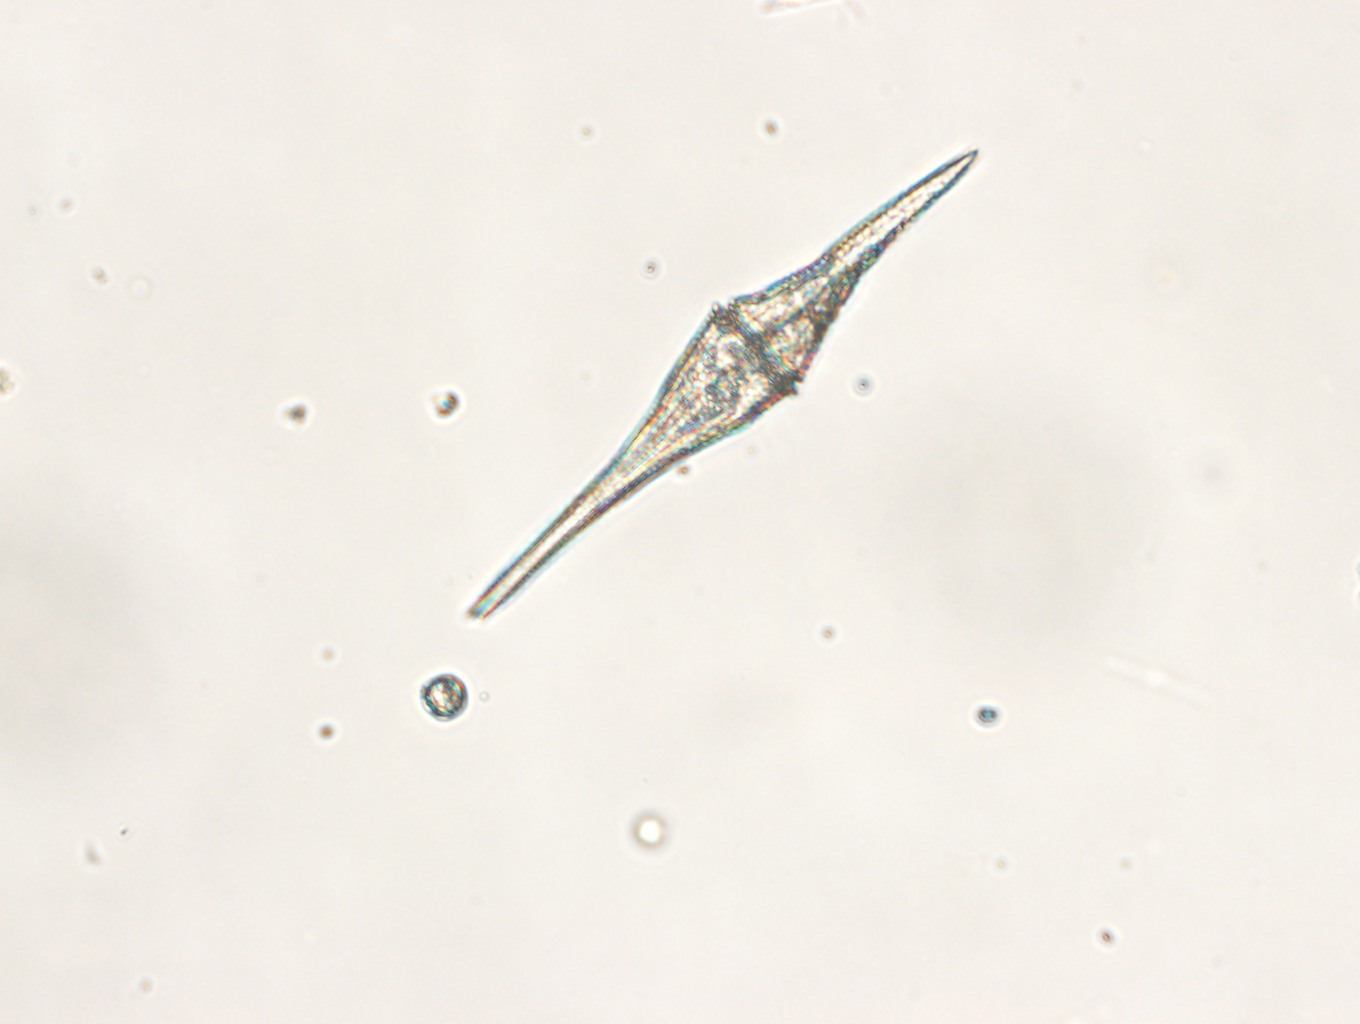ceratium furca: (470, 147, 983, 621)
